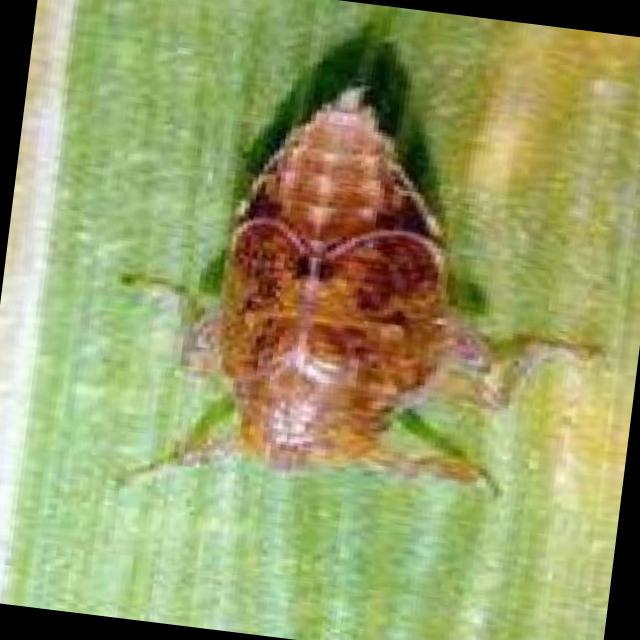brown-planthopper: (152, 62, 498, 491)
